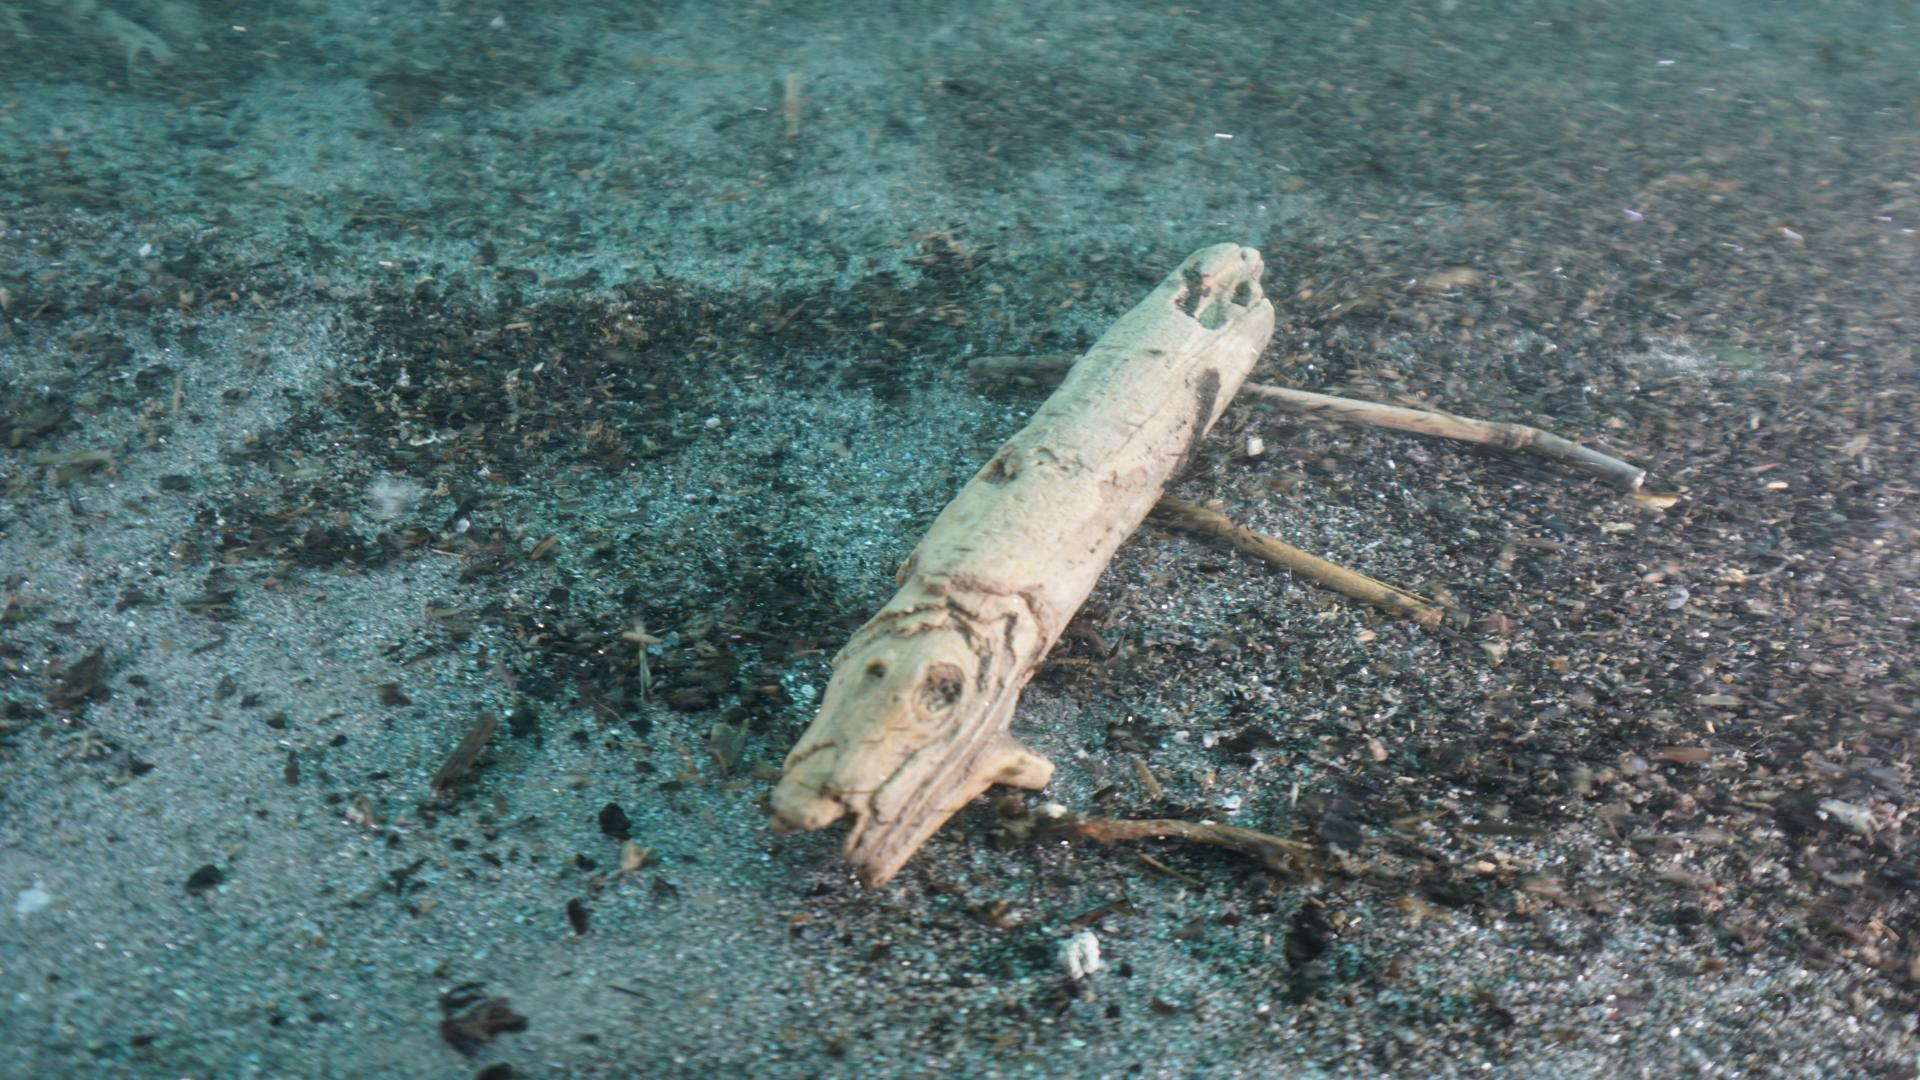wood: (761, 237, 1276, 891)
